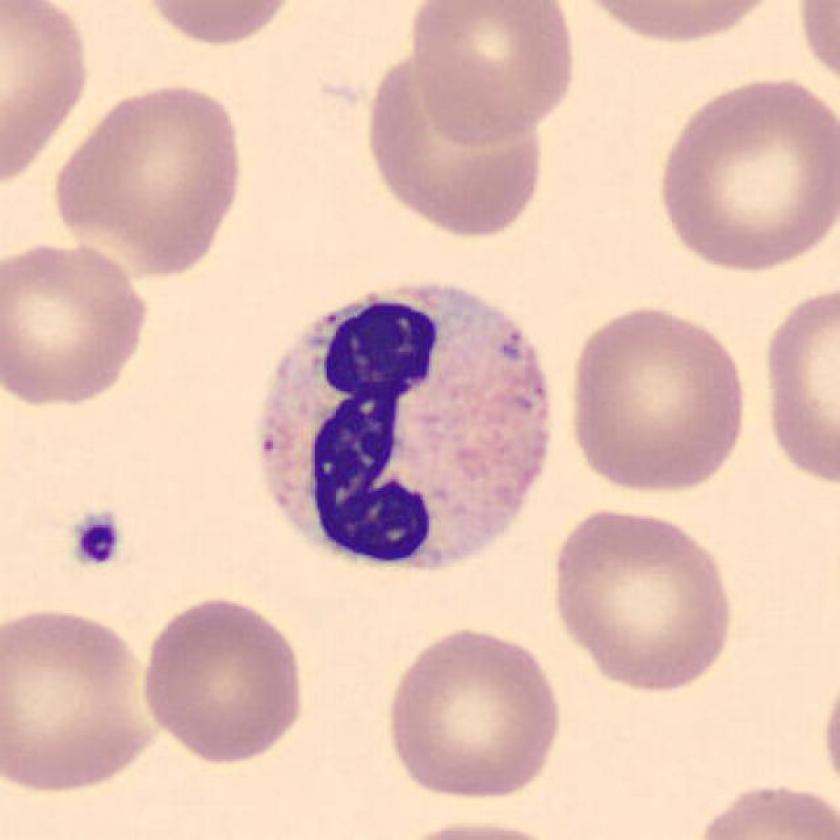neutrophil: (256, 282, 552, 572)
